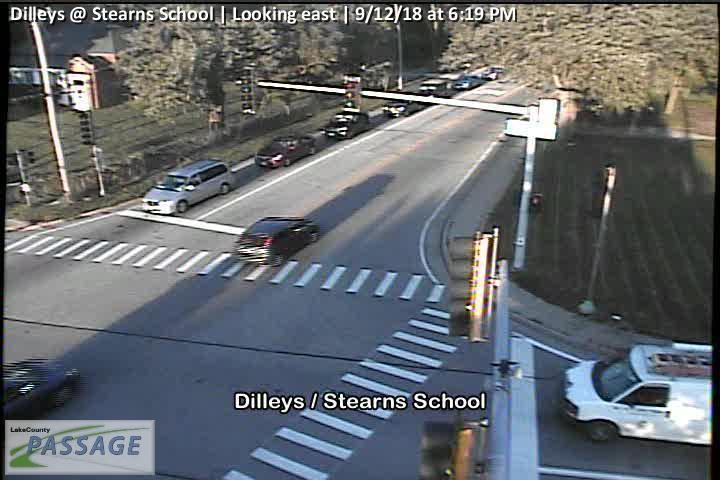SUV: (140, 160, 233, 214)
Sedan: (232, 216, 320, 269), (253, 132, 317, 168), (380, 90, 432, 118), (323, 110, 370, 138)
